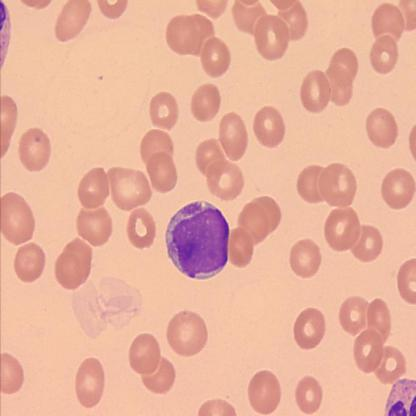Myelocyte: (166, 199, 231, 279)
